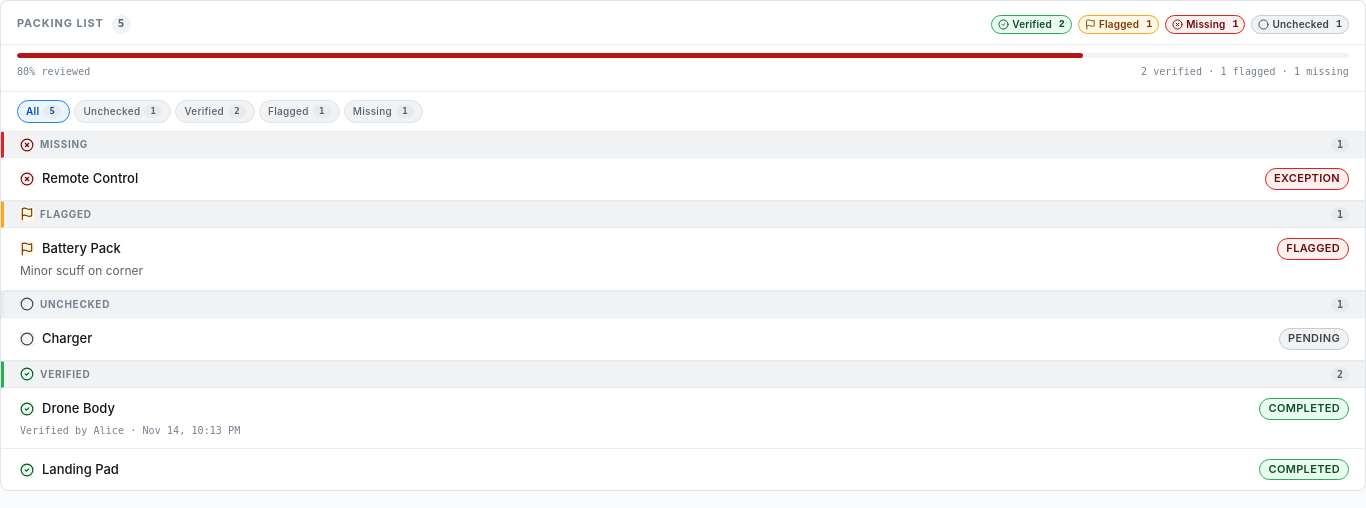
it: ManifestPanel › shows only missing items after clicking the Missing filter
What coordinates should you click on to do the following:
click the button with aria-label "Show missing items"
I would click on:
 (383, 112)
Its box is 344,100 -> 423,123.
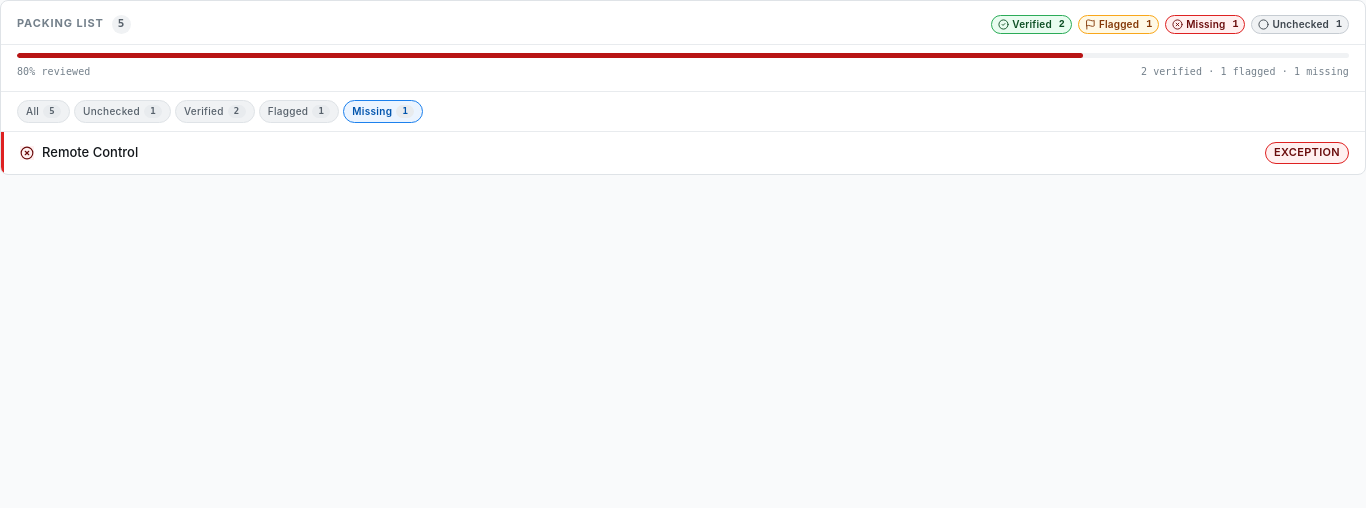
Expected: the number of list items with test id "manifest-item" is 1, 1,132 -> 1365,174
